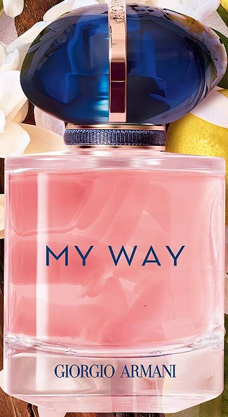armani_my_way_floral: (3, 9, 225, 413)
